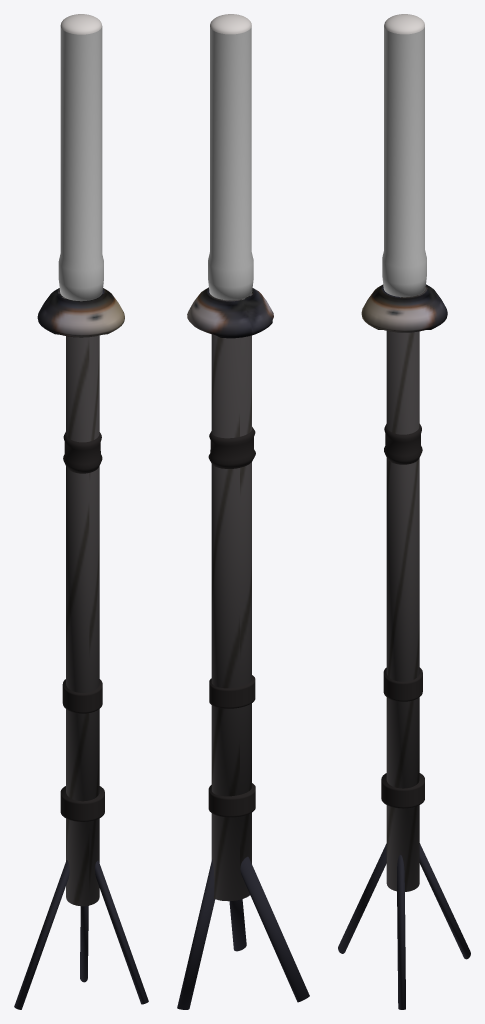
File: LuzMesa.obj
3 views of the same model, side by side, from view 1: azimuth 90°, elevation 25°; view 2: azimuth 210°, elevation 25°; view 3: azimuth 270°, elevation 25° (orthographic).
Parts seen in each view (by area): view 1: Cylinder, Cylinder.002, Cylinder.001, Cylinder.003, Cylinder.004, Cylinder.007, Cylinder.008, Cylinder.006, Sphere_Sphere.001, Cylinder.005; view 2: Cylinder, Cylinder.002, Cylinder.001, Cylinder.003, Cylinder.005, Cylinder.007, Cylinder.008, Cylinder.006, Sphere_Sphere.001, Cylinder.004; view 3: Cylinder, Cylinder.002, Cylinder.001, Cylinder.005, Cylinder.007, Cylinder.003, Cylinder.008, Cylinder.004, Cylinder.006, Sphere_Sphere.001.
Part boxes in pixels (x1,y1,x2,y2): Cylinder: (66,335,99,906); Cylinder.002: (58,26,103,301); Cylinder.001: (37,288,124,337); Cylinder.003: (14,860,69,1009); Cylinder.004: (95,860,148,1004); Cylinder.007: (63,432,102,473); Cylinder.008: (60,786,104,821); Cylinder.006: (62,679,102,713); Sphere_Sphere.001: (60,14,101,34); Cylinder.005: (80,905,88,982); Cylinder: (211,334,251,901); Cylinder.002: (208,27,253,300); Cylinder.001: (187,287,273,338); Cylinder.003: (240,856,309,1002); Cylinder.005: (177,859,215,1009); Cylinder.007: (208,427,255,468); Cylinder.008: (208,783,255,817); Cylinder.006: (209,675,255,708); Sphere_Sphere.001: (210,14,251,34); Cylinder.004: (229,899,246,951); Cylinder: (386,331,419,891); Cylinder.002: (382,26,426,297); Cylinder.001: (361,284,447,332); Cylinder.005: (397,855,405,1009); Cylinder.007: (384,424,422,464); Cylinder.003: (419,843,470,959); Cylinder.008: (381,773,424,808); Cylinder.004: (338,843,386,953); Cylinder.006: (383,667,422,701); Sphere_Sphere.001: (384,14,424,34).
Bounding box in the file's own units: 0.5693 × 5.36 × 0.6657.
